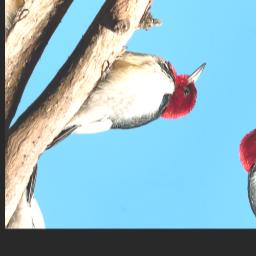Woodpecker: (44, 15, 217, 207)
